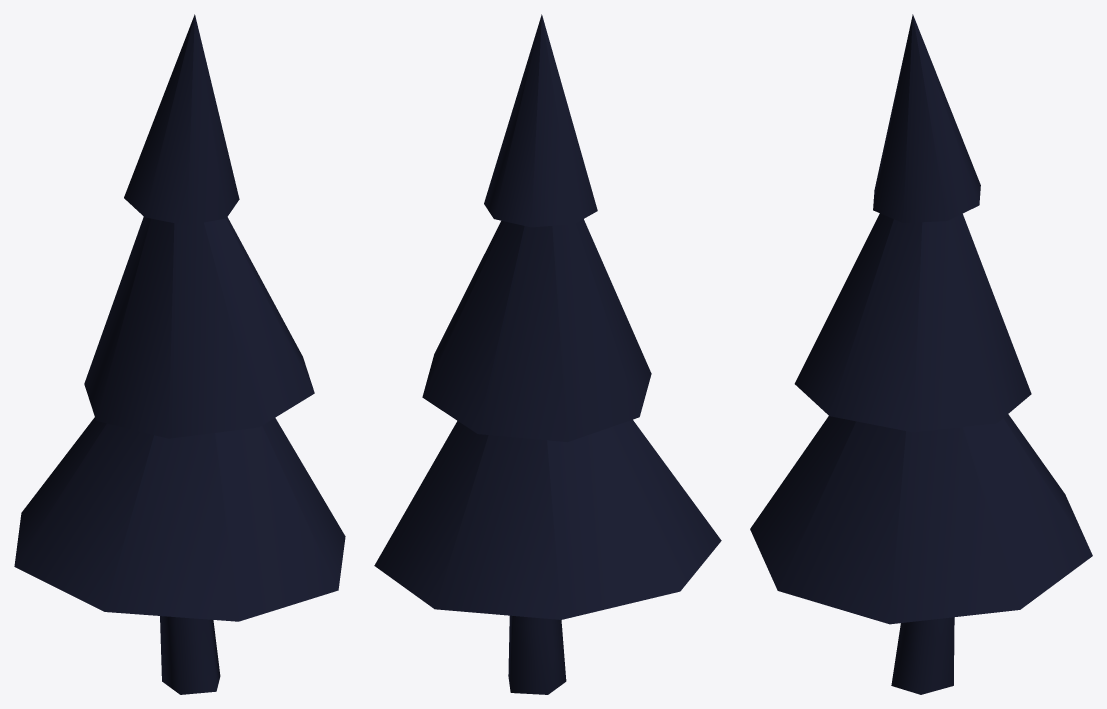
Rendered from tree32.dae.
The picture shows the model from 3 angles, left to right: view 1: azimuth 30°, elevation 25°; view 2: azimuth 150°, elevation 25°; view 3: azimuth 270°, elevation 25°; orthographic projection.
Visible parts, largest first — view 1: Cone; view 2: Cone; view 3: Cone.
Boxes of the visible parts, x1,y1,x2,y2 form: Cone: [14, 14, 345, 694]; Cone: [374, 14, 721, 694]; Cone: [750, 14, 1092, 694].
Size of the model in its own units: 73.51 by 158 by 73.64.
